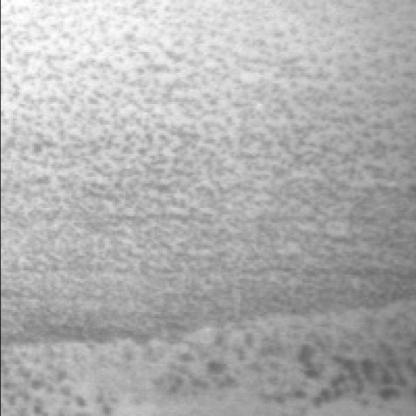pitted_surface: (6, 3, 416, 339), (6, 318, 416, 416)
